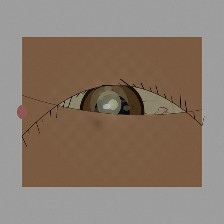corneal_ulcer: (87, 87, 131, 122)
